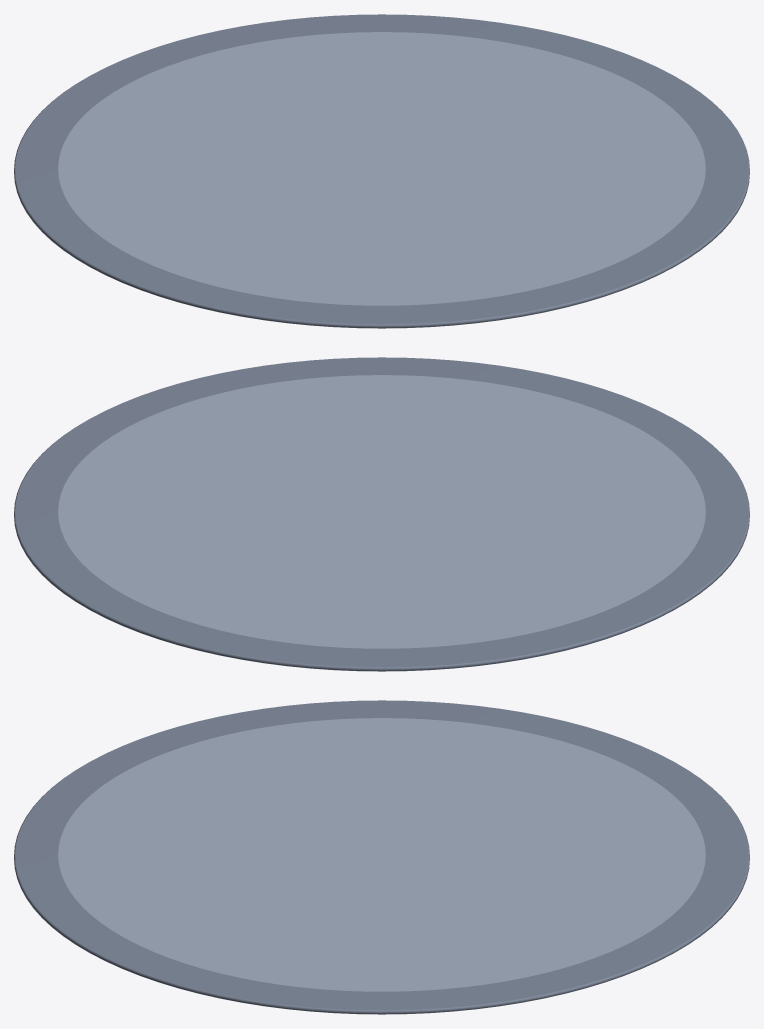
The model's file is round-rug.glb.
The picture shows the model from 3 angles, top to bottom: view 1: azimuth 30°, elevation 25°; view 2: azimuth 150°, elevation 25°; view 3: azimuth 270°, elevation 25°; orthographic projection.
Parts seen in each view (by area): view 1: round-rug-inset, round-rug-border; view 2: round-rug-inset, round-rug-border; view 3: round-rug-inset, round-rug-border.
Part boxes in pixels (<box>): round-rug-inset: <box>58,32,705,305</box>; round-rug-border: <box>14,14,749,328</box>; round-rug-inset: <box>58,375,705,648</box>; round-rug-border: <box>14,357,749,671</box>; round-rug-inset: <box>58,718,705,991</box>; round-rug-border: <box>14,700,749,1014</box>.
Bounding box in the file's own units: 1.8 × 0.013 × 1.8.
